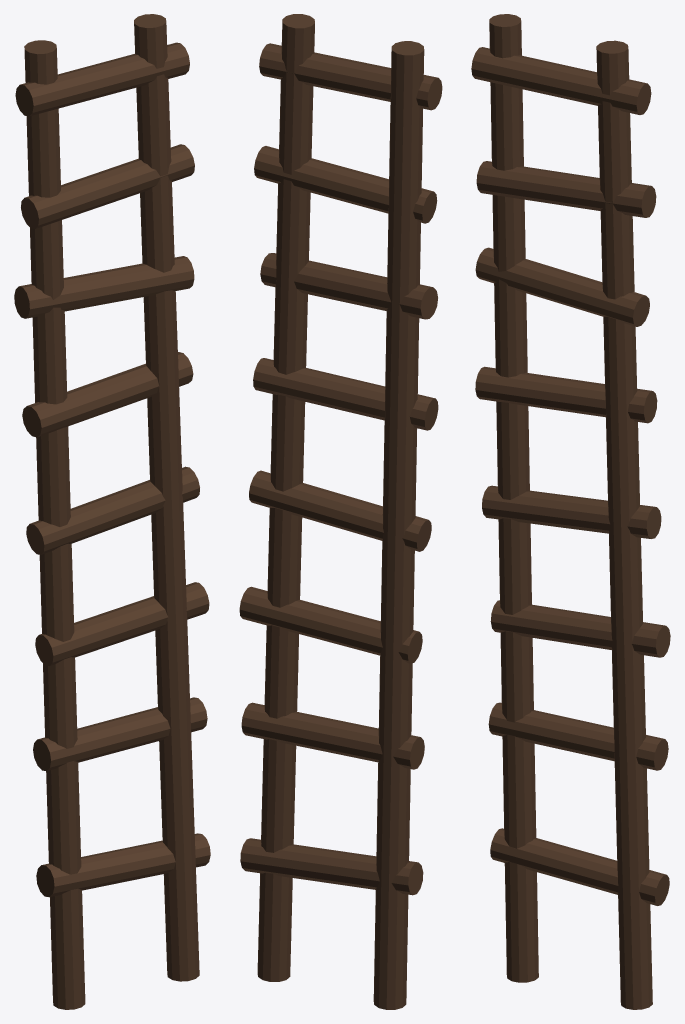
Rendered from Ladder.fbx.
3 views of the same model, side by side, from view 1: azimuth 30°, elevation 25°; view 2: azimuth 150°, elevation 25°; view 3: azimuth 330°, elevation 25° (orthographic).
Visible parts, largest first — view 1: Ladder3; view 2: Ladder3; view 3: Ladder3.
Part boxes in pixels (x1=…): Ladder3: x1=14, y1=14, x2=210, y2=1009; Ladder3: x1=239, y1=14, x2=442, y2=1009; Ladder3: x1=471, y1=14, x2=670, y2=1009.
Bounding box in the file's own units: 1.6 × 8 × 0.3915.
